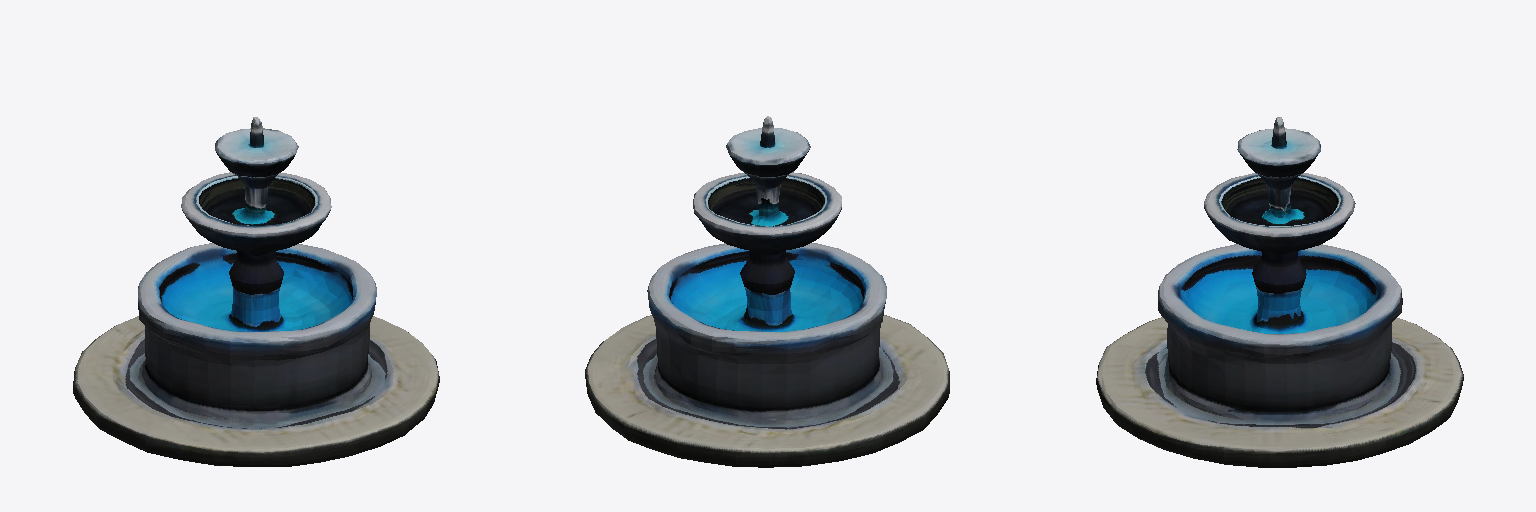
The picture shows the model from 3 angles: view 1: azimuth 30°, elevation 25°; view 2: azimuth 150°, elevation 25°; view 3: azimuth 270°, elevation 25°; orthographic projection.
Visible parts, largest first — view 1: fuente; view 2: fuente; view 3: fuente.
Part boxes in pixels (x1,y1,x2,y2): fuente: (73, 117, 439, 466); fuente: (585, 116, 949, 467); fuente: (1096, 117, 1463, 467).
Size of the model in its own units: 4.05 by 3.37 by 4.06.
Materials: 1 (1 with a texture image).